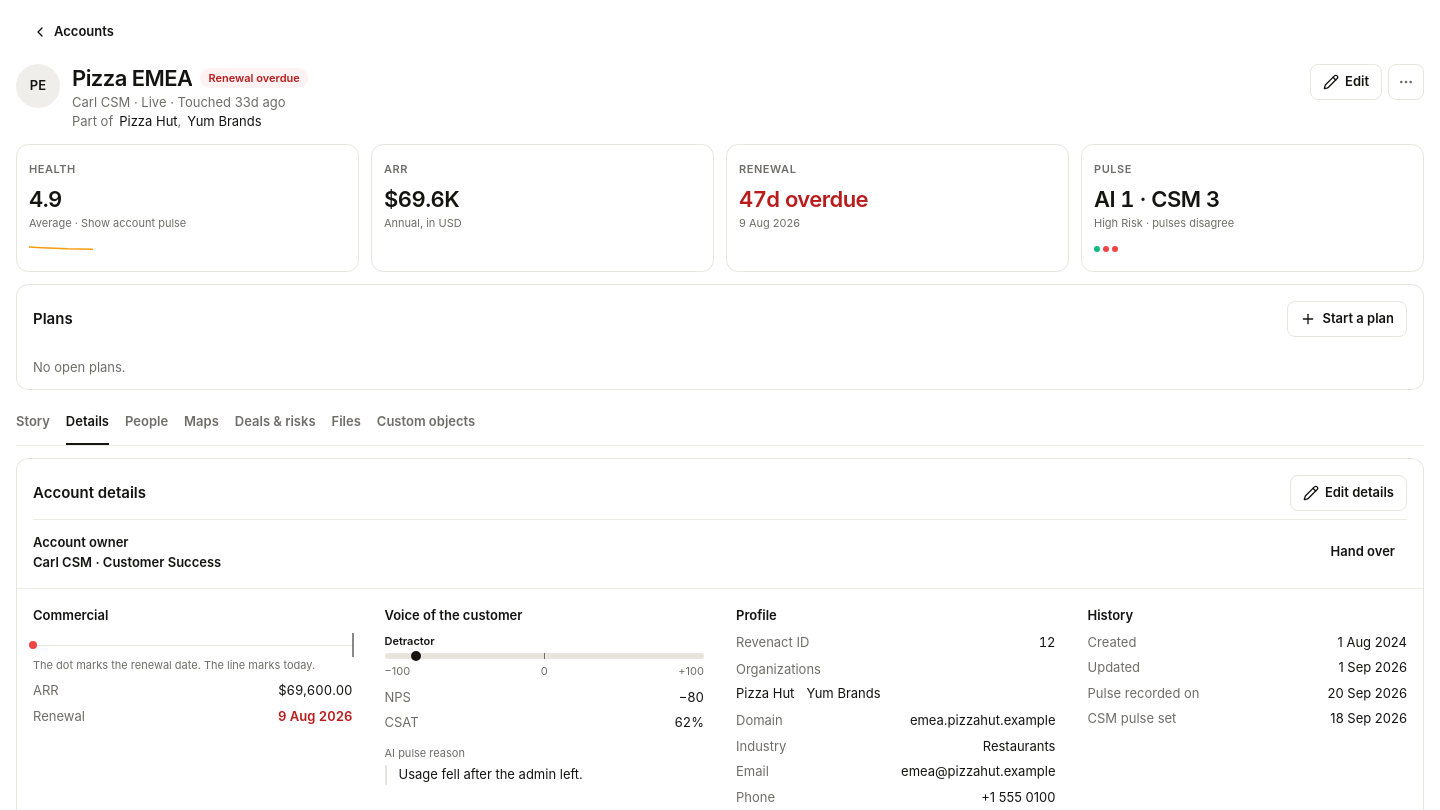
Scenario: the account page (/accounts/:id) › hands the account over from Details with a note, and the name row follows
Click the button "Hand over".
click(1363, 552)  # box top-left (1319, 534), bottom-right (1407, 570)
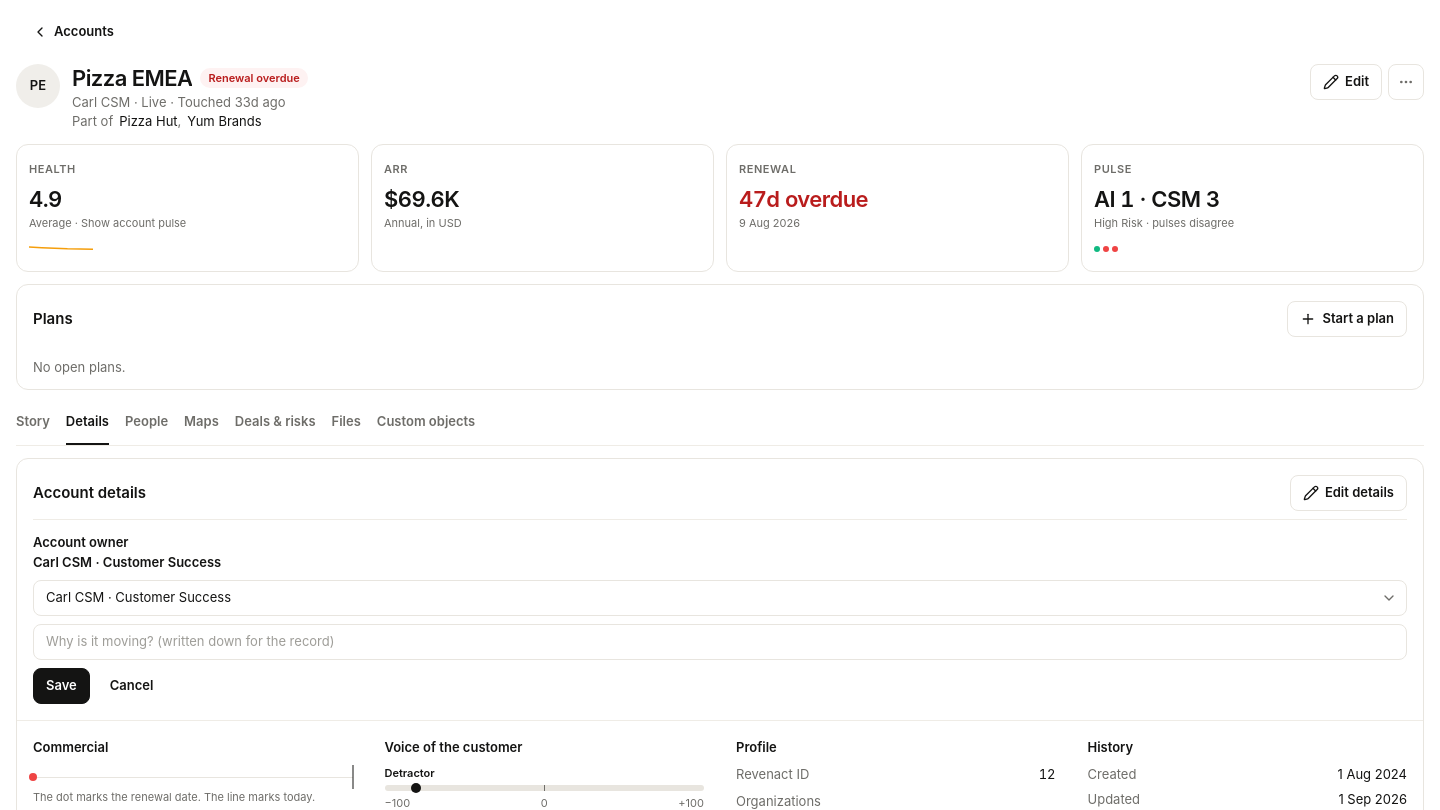
Select "Alice · Customer Success" in the dropdown named "New account owner" at [720, 598], box top-left (33, 580), bottom-right (1407, 616)
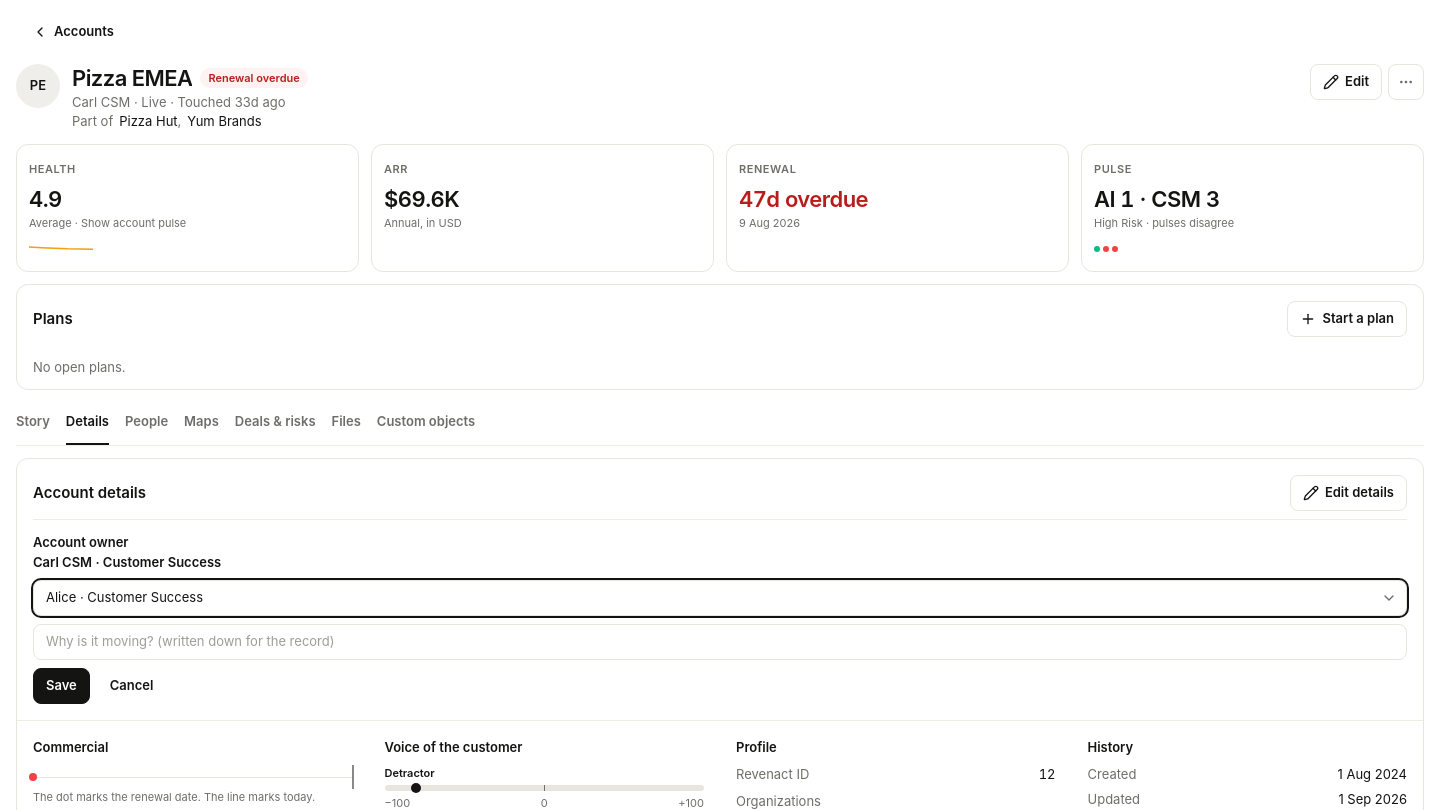
Type "Covering while Carl is away" into the field named "Handover note".
click(720, 642); type("Covering while Carl is away")  # box top-left (33, 624), bottom-right (1407, 660)
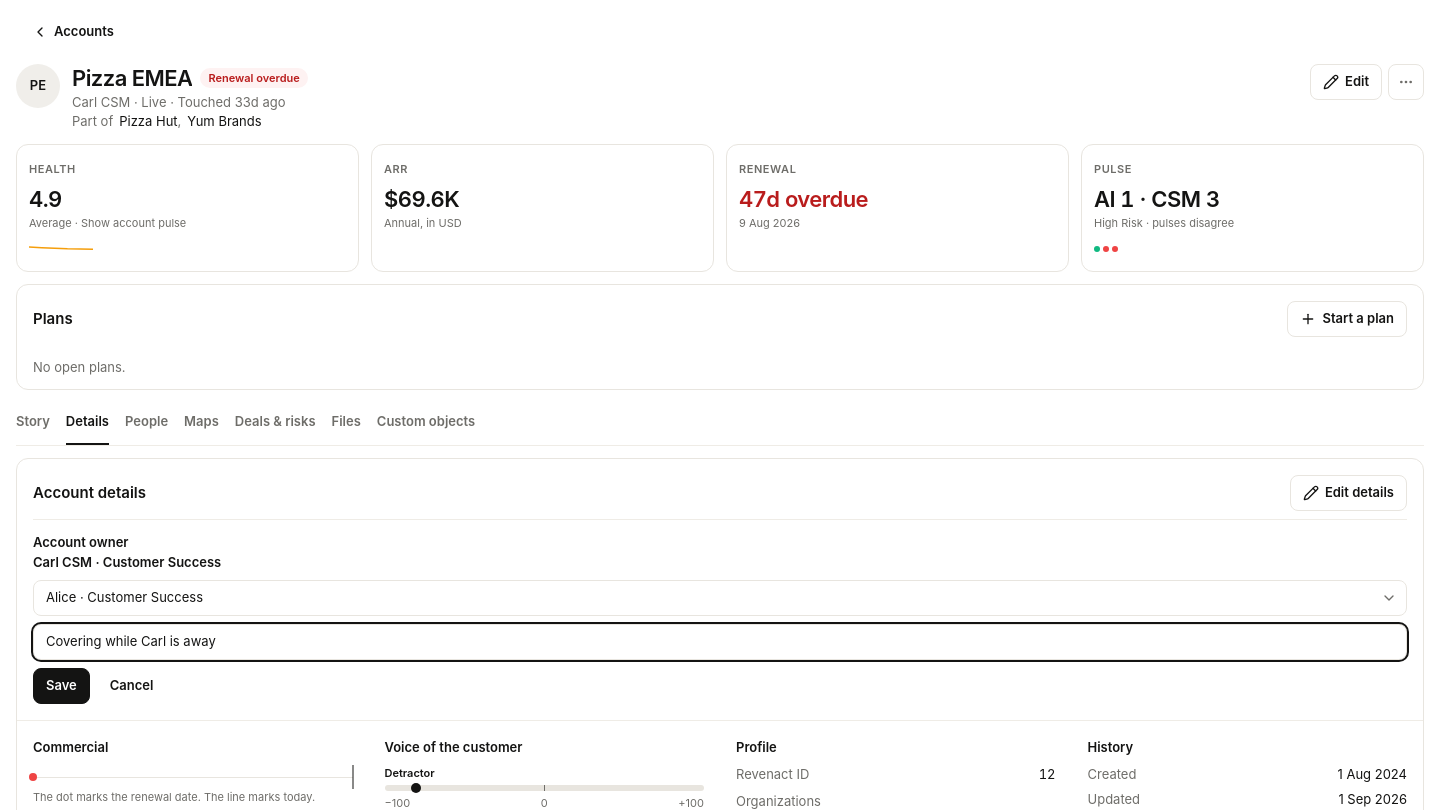
Click the button "Save".
click(61, 686)  # box top-left (33, 668), bottom-right (90, 704)
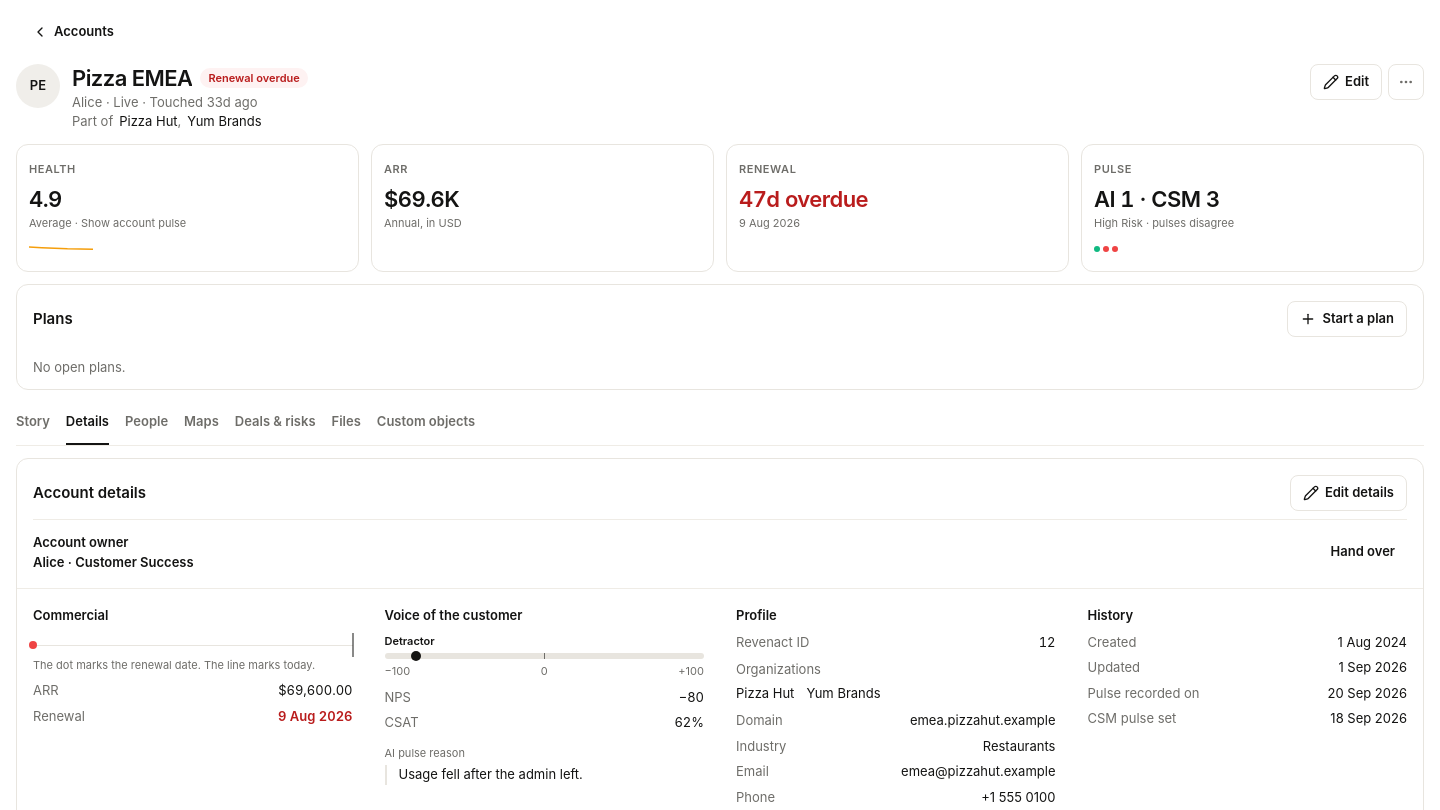
Now the text "Alice" is shown, box top-left (72, 94), bottom-right (102, 110)
